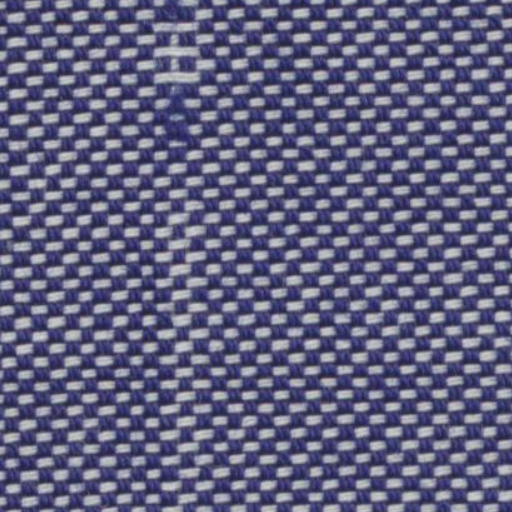TuoSha: (120, 22, 240, 491)
